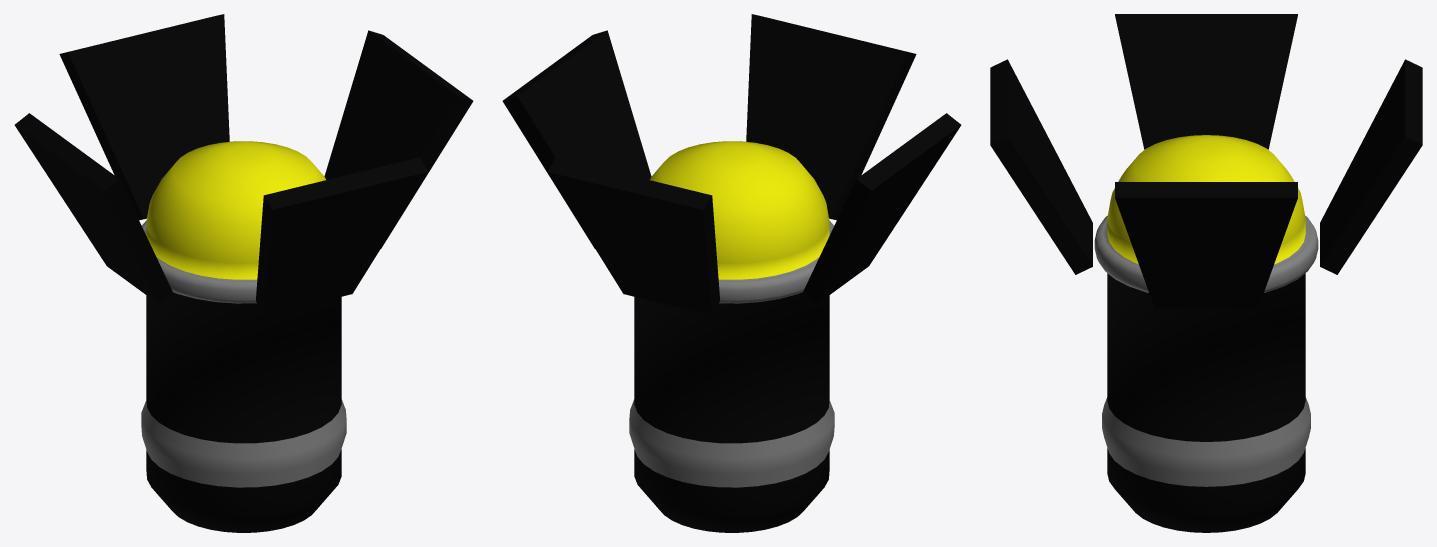
The model's file is PFLight.fbx.
3 views of the same model, side by side, from view 1: azimuth 30°, elevation 25°; view 2: azimuth 150°, elevation 25°; view 3: azimuth 270°, elevation 25° (orthographic).
Visible parts, largest first — view 1: Cylinder.001; view 2: Cylinder.001; view 3: Cylinder.001.
Part boxes in pixels (box(x1,y1,x2,y2)): Cylinder.001: box(14, 14, 473, 532); Cylinder.001: box(502, 14, 961, 532); Cylinder.001: box(990, 14, 1422, 532).
Size of the model in its own units: 71.18 by 73.12 by 71.18.
